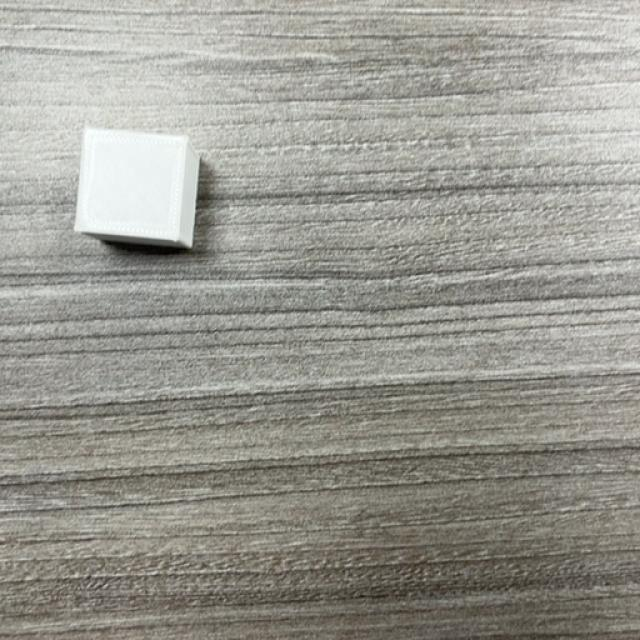Blanco: (75, 128, 200, 251)
